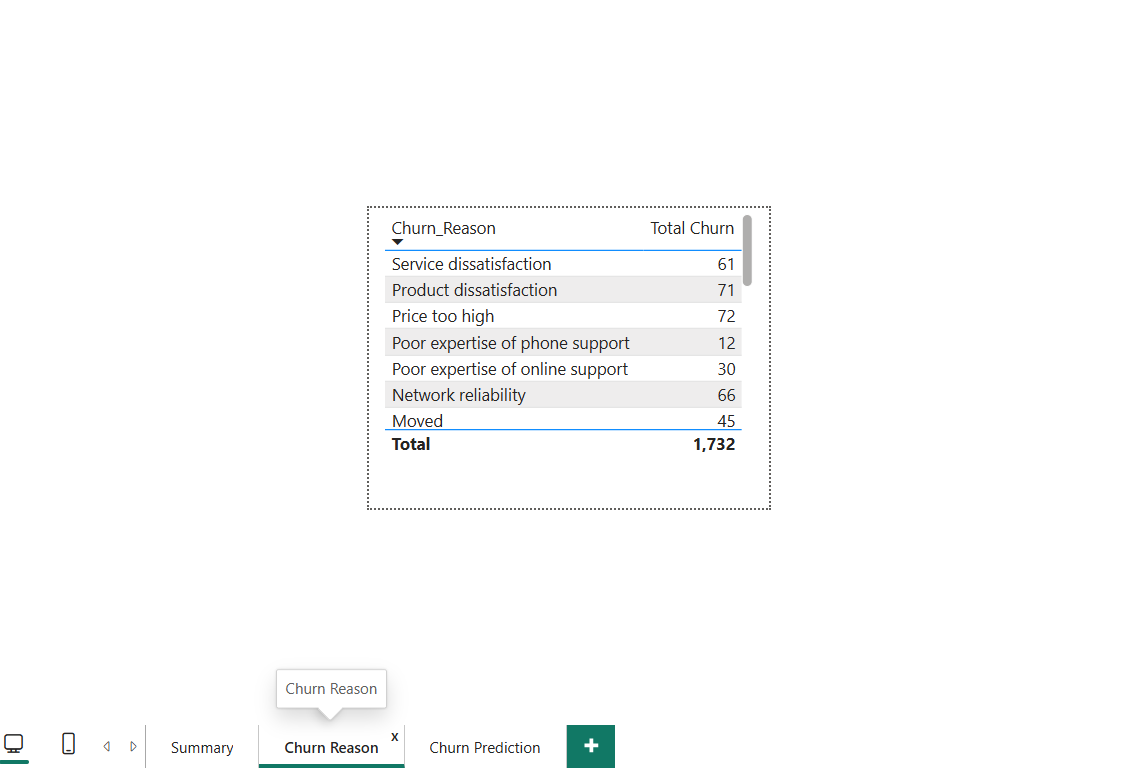

What the dashboard file says about the page in this screenshot:
{"tool":"powerbi","page":{"name":"Churn Reason","canvas":[320,240],"ordinal":1},"visuals":[{"type":"tableEx","fields":{"Values":["db_churn customer_data_cleaned.Churn_Reason","TBL_Measures.Total Churn"]},"box":[7,0,305,203],"z":0}]}

Visuals, with their boxes on the page's 320x240 design canvas (x1, y1, x2, y2). These are canvas units, not pixel positions in the 1147x768 screenshot, which may show the page scaled, cropped or inside an application window:
tableEx - db_churn customer_data_cleaned.Churn_Reason x TBL_Measures.Total Churn: x1=7, y1=0, x2=312, y2=203
